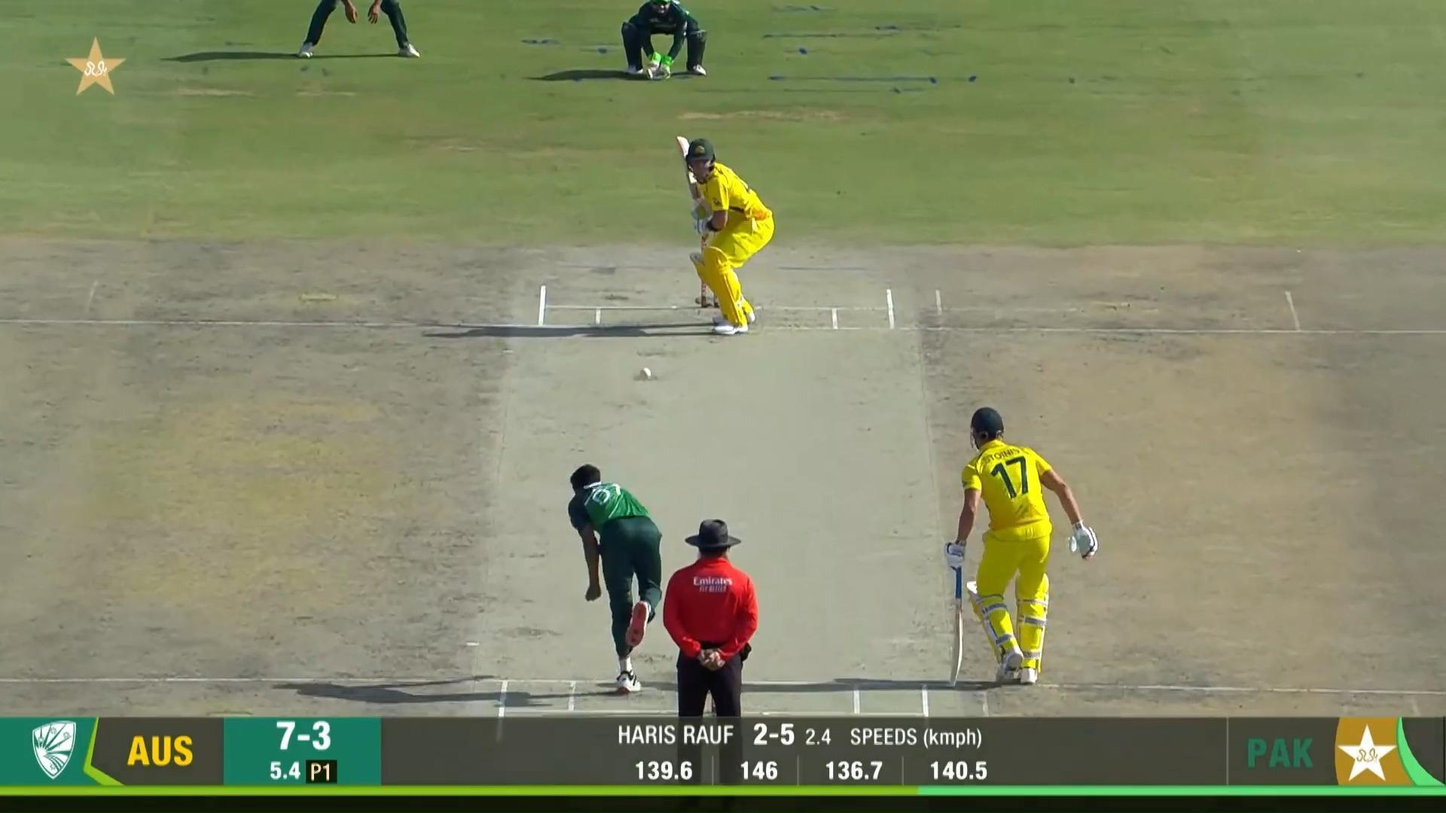BM 1: (676, 136, 774, 336)
BO: (568, 464, 663, 694)
